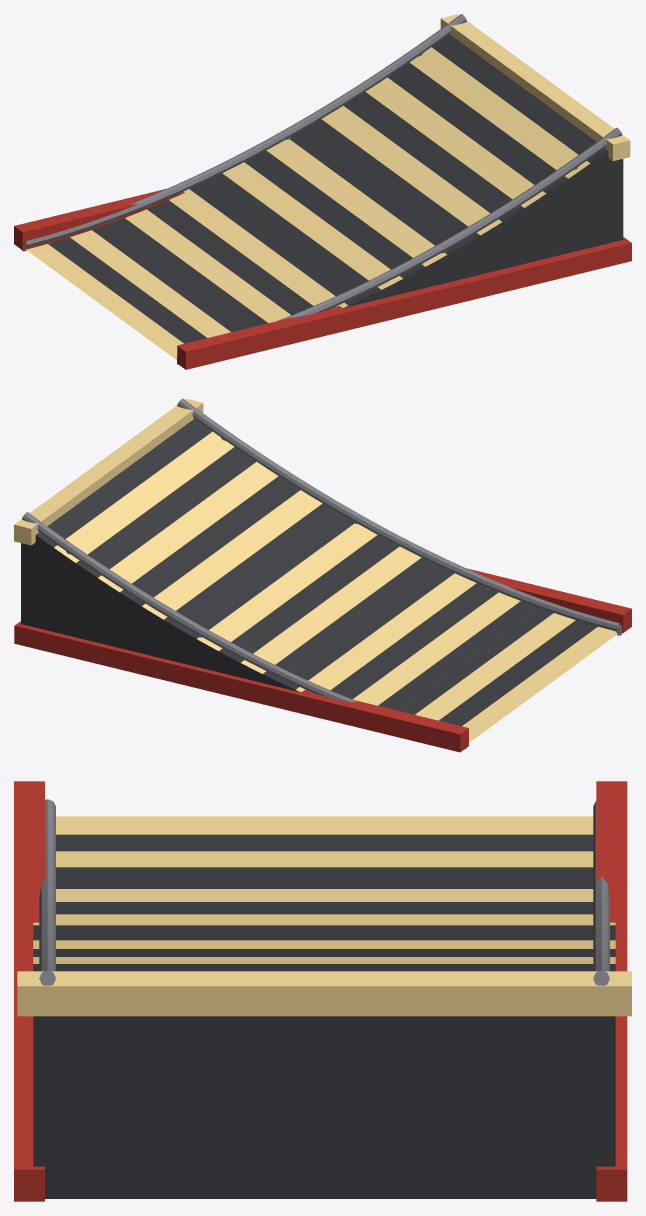
The model's file is dt_ramp_kicker.fbx.
3 renders of one model, top to bottom at view 1: azimuth 30°, elevation 25°; view 2: azimuth 150°, elevation 25°; view 3: azimuth 270°, elevation 25°, orthographic. The views are drawn at different scales.
Parts seen in each view (by area): view 1: concrete_1, gold_1, crimson_1, steel_1; view 2: concrete_1, gold_1, crimson_1, steel_1; view 3: concrete_1, gold_1, crimson_1, steel_1.
Part boxes in pixels (x1=…): concrete_1: x1=48, y1=34, x2=623, y2=343; gold_1: x1=26, y1=14, x2=630, y2=359; crimson_1: x1=14, y1=189, x2=631, y2=369; steel_1: x1=22, y1=14, x2=622, y2=364; concrete_1: x1=21, y1=418, x2=597, y2=726; gold_1: x1=14, y1=398, x2=617, y2=742; crimson_1: x1=14, y1=568, x2=631, y2=752; steel_1: x1=22, y1=398, x2=621, y2=748; concrete_1: x1=33, y1=834, x2=615, y2=1198; gold_1: x1=17, y1=816, x2=631, y2=1016; crimson_1: x1=14, y1=781, x2=627, y2=1201; steel_1: x1=39, y1=799, x2=609, y2=985.
Size of the model in its own units: 1.42 by 0.3928 by 0.955.
